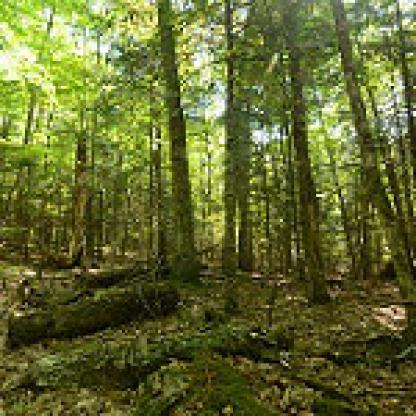tree: (0, 0, 75, 266), (78, 3, 113, 263)
trunk: (327, 0, 414, 325), (152, 0, 202, 261), (286, 67, 332, 305), (222, 3, 238, 299), (239, 119, 255, 269)
